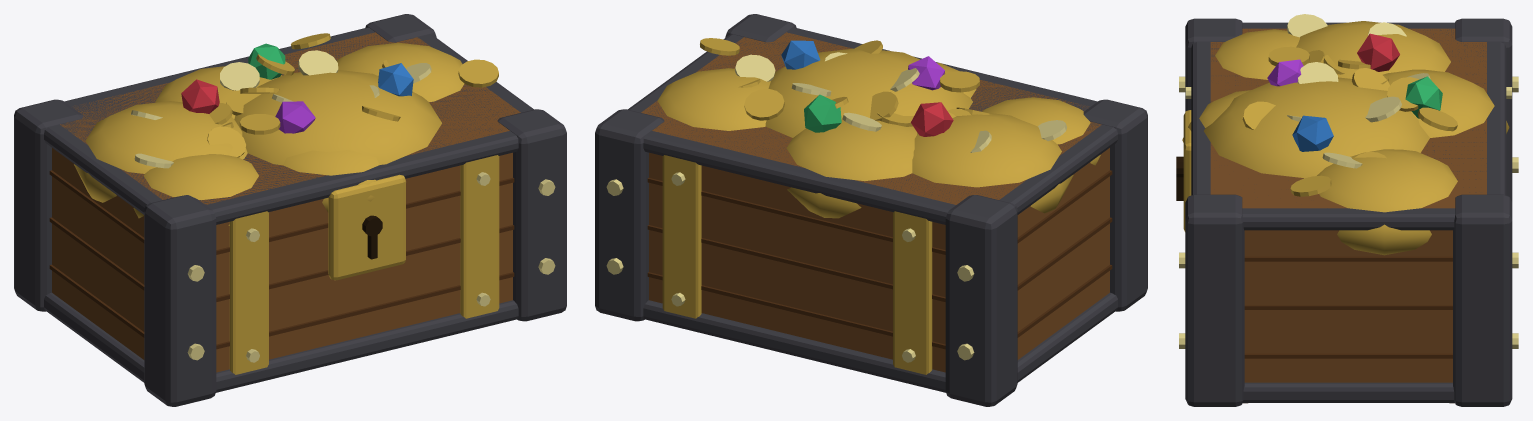
Rendered from chest_base_lite.glb.
3 renders of one model, left to right at view 1: azimuth 30°, elevation 25°; view 2: azimuth 150°, elevation 25°; view 3: azimuth 270°, elevation 25°, orthographic. The views are drawn at different scales.
Visible parts, largest first — view 1: Cube; view 2: Cube; view 3: Cube.
Boxes of the visible parts, x1,y1,x2,y2 form: Cube: (14, 14, 566, 406); Cube: (595, 14, 1147, 406); Cube: (1176, 14, 1518, 406).
Bounding box in the file's own units: 1.6 × 0.891 × 1.15.
